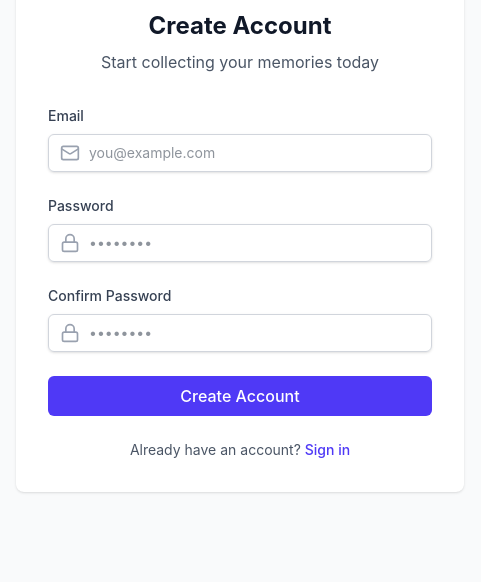
Test: RegisterForm › shows password mismatch error
Type "a@b.com" into the field labelled "Email" at [240, 153], box [48, 134, 432, 172]
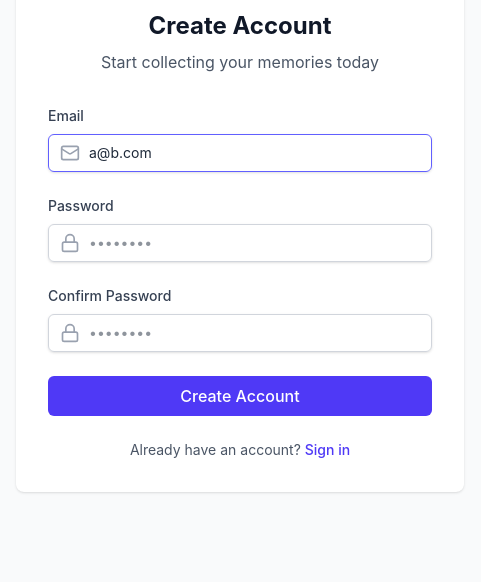
Type "123456" into the password field labelled "Password" at [240, 243], box [48, 224, 432, 262]
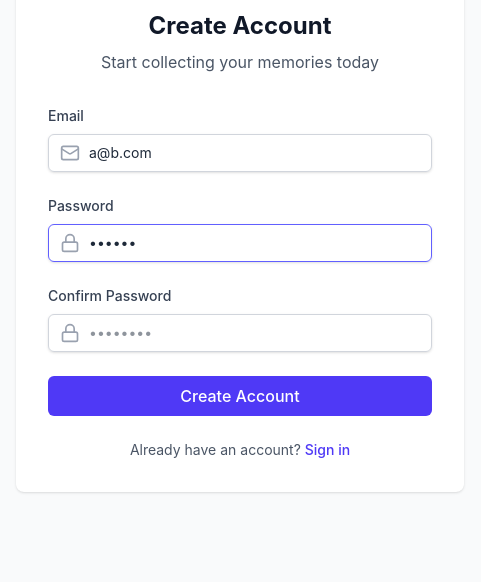
Type "654321" into the password field labelled "Confirm Password" at [240, 333], box [48, 314, 432, 352]
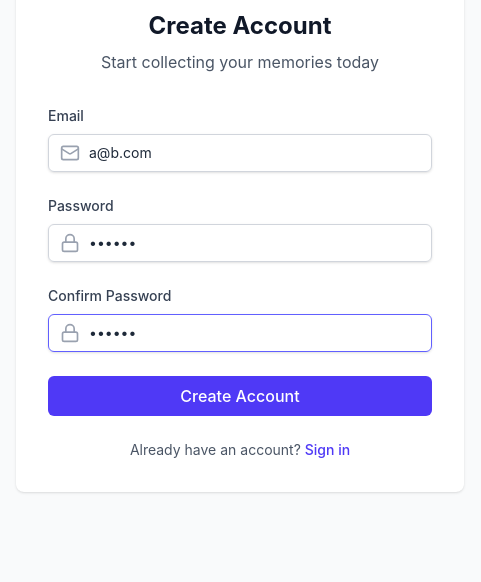
Click the button "Create Account" at [240, 396], box [48, 376, 432, 416]
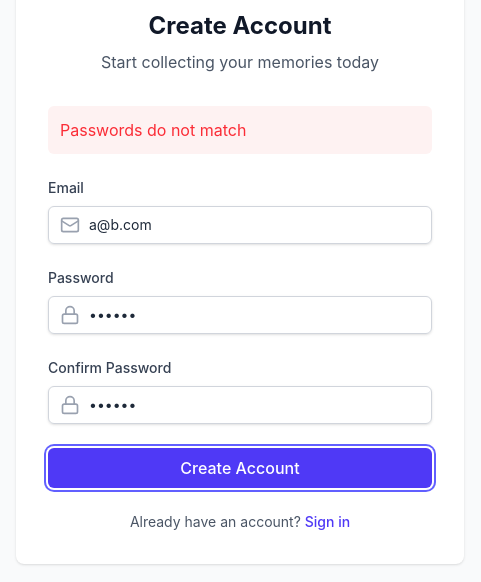
Now the text "Passwords do not match" is shown, box [48, 106, 432, 154]
